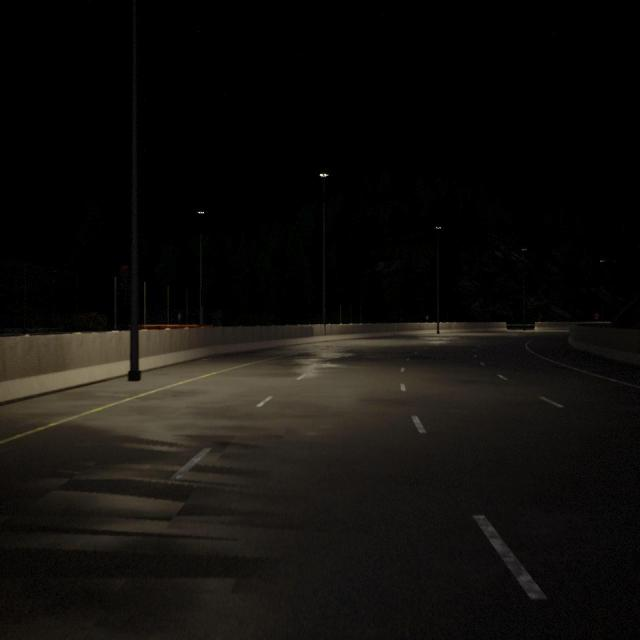Traffic_Signs: (594, 313, 599, 319), (178, 314, 181, 318), (426, 316, 428, 320)
